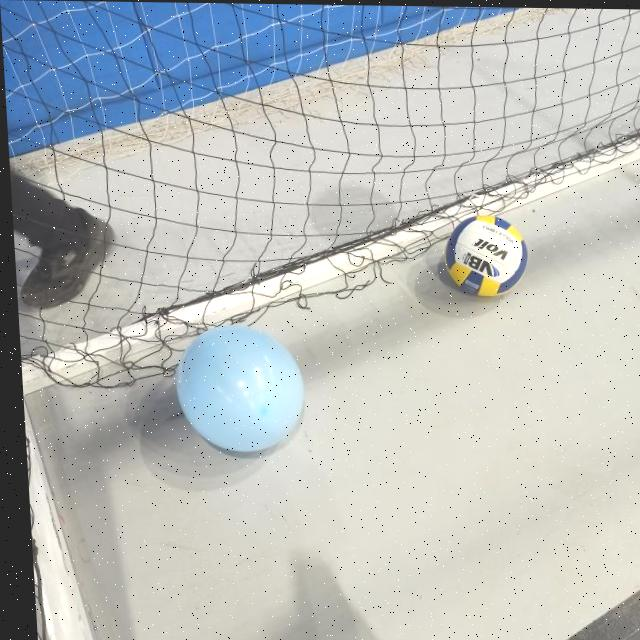balloon: (167, 322, 301, 454)
